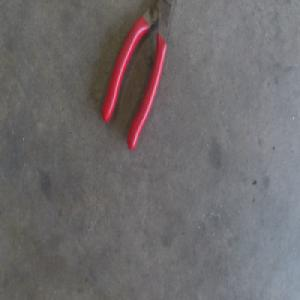Pliers: (101, 0, 172, 150)
